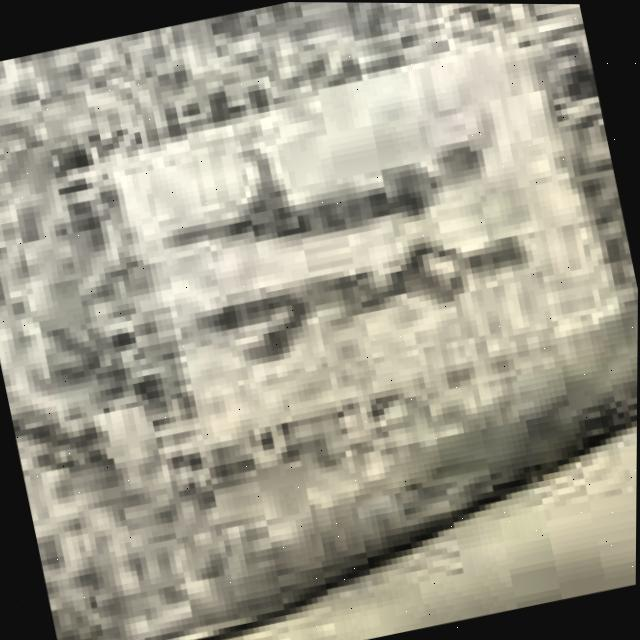paper: (0, 2, 638, 640)
